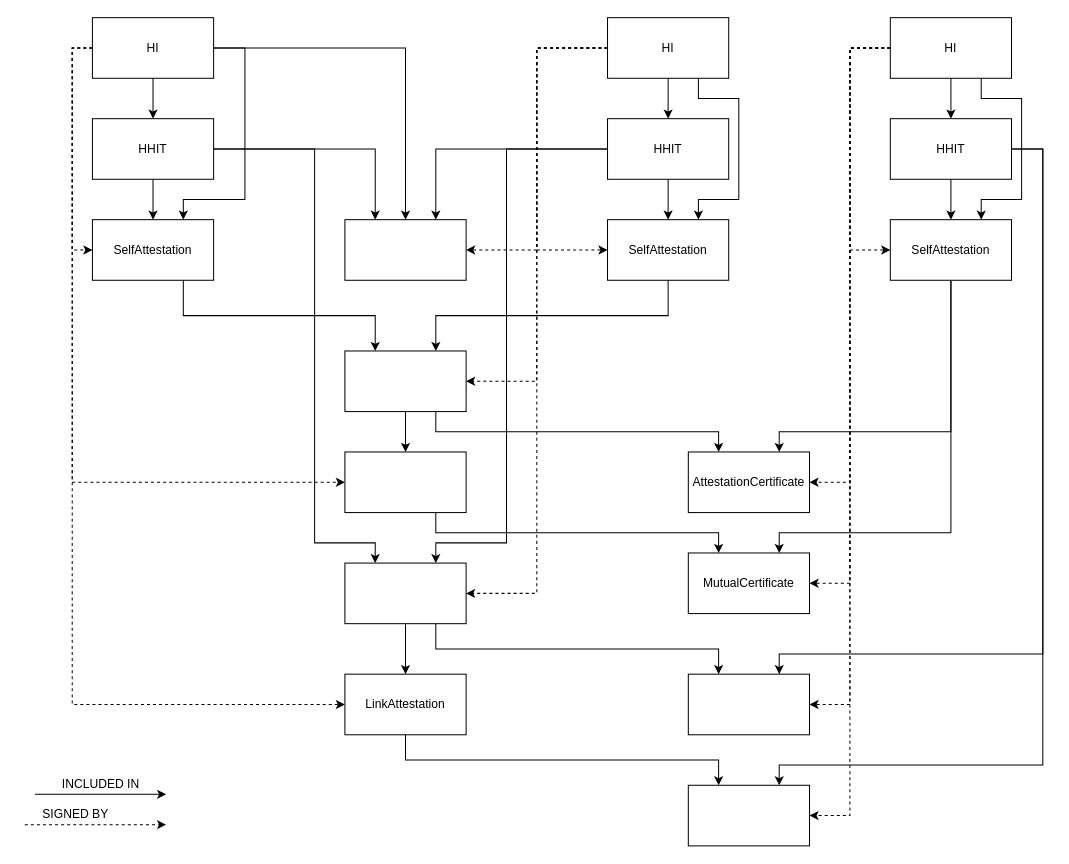
Some shapes in this 1069 by 864 pixel diagram are drawn without their labels. Here are the shapes that lost their labels. From the top down, the centre of each, then its label:
the point at 405,249: BroadcastAttestation
the point at 405,381: Attestation
the point at 405,482: MutualAttestation
the point at 405,593: ConciseAttestation
the point at 748,704: ConciseCertificate
the point at 748,815: LinkCertificate
